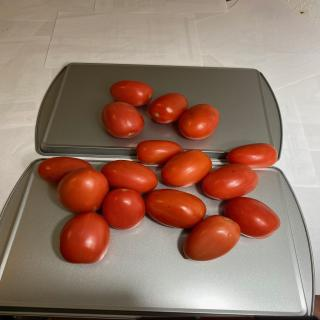Tomato: (182, 215, 241, 261), (59, 211, 110, 264), (145, 188, 206, 228), (224, 197, 280, 239), (57, 168, 109, 213), (202, 163, 259, 200), (161, 150, 212, 188), (101, 160, 158, 194), (102, 188, 146, 230), (178, 103, 220, 140), (102, 102, 144, 138), (37, 157, 93, 184), (226, 143, 278, 168), (148, 93, 188, 124), (136, 140, 183, 165), (110, 80, 154, 106)
